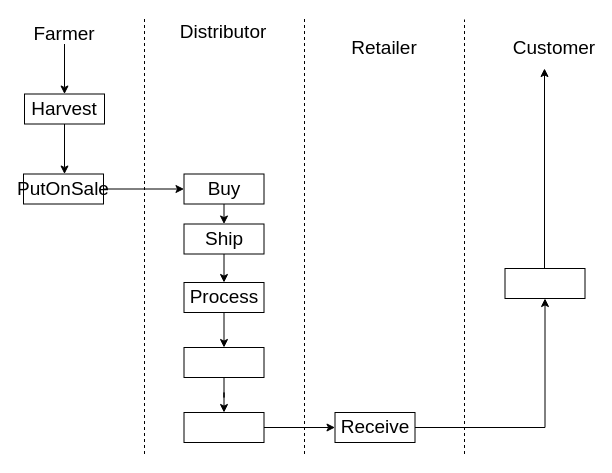
Image size: 612x473. Some labels were removed from this diagram. The shapes that lost their labels are listed below. From the top down, each one's centre as x and y in pixels, then its label:
At point (544, 283): "Purshase".
At point (223, 362): "Pack".
At point (223, 427): "Distribute".
